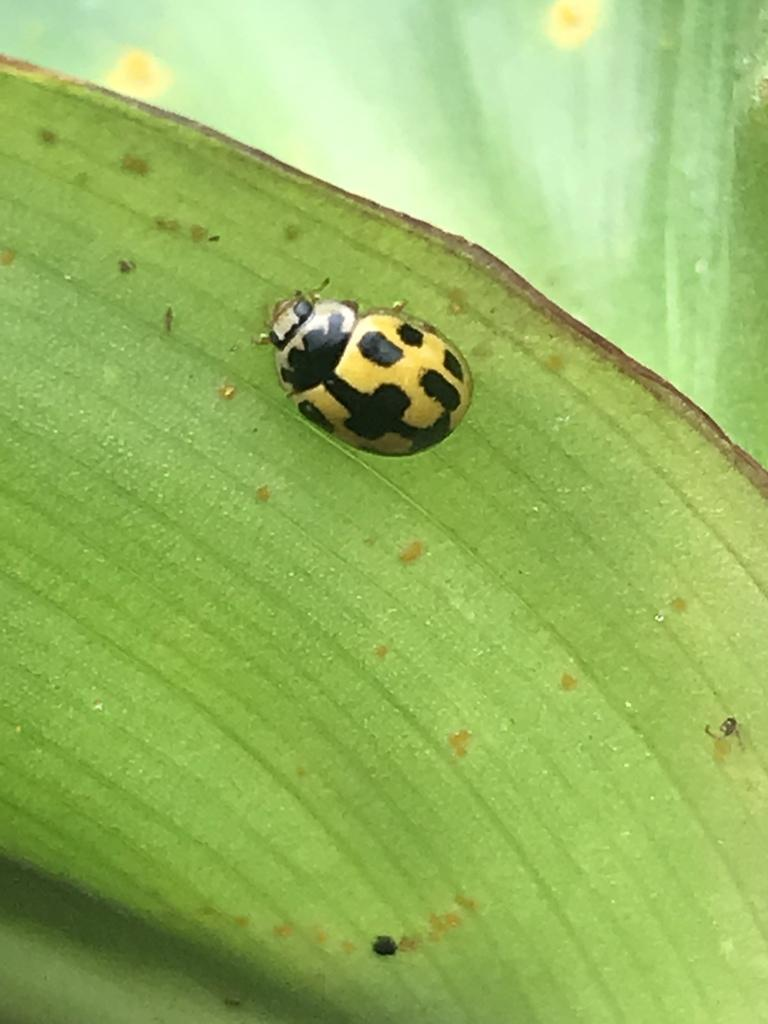ladybug: (246, 274, 481, 461)
